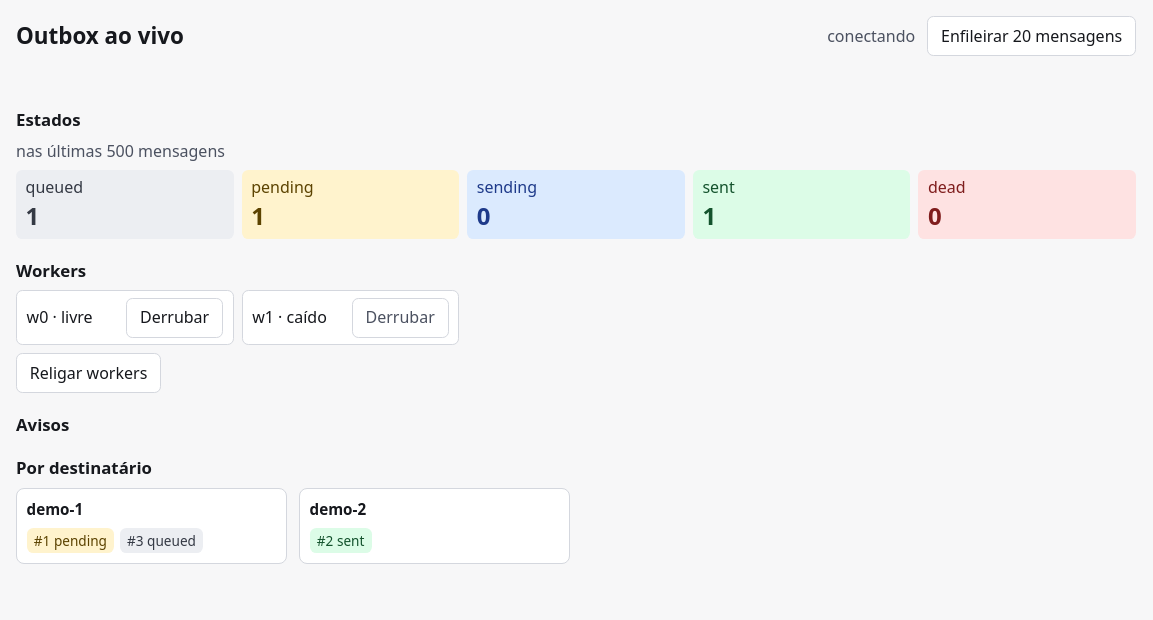
Test: App › avisa quando derrubar falha
Click the button with aria-label "Derrubar worker 0" at (175, 318), box [126,298,223,338]
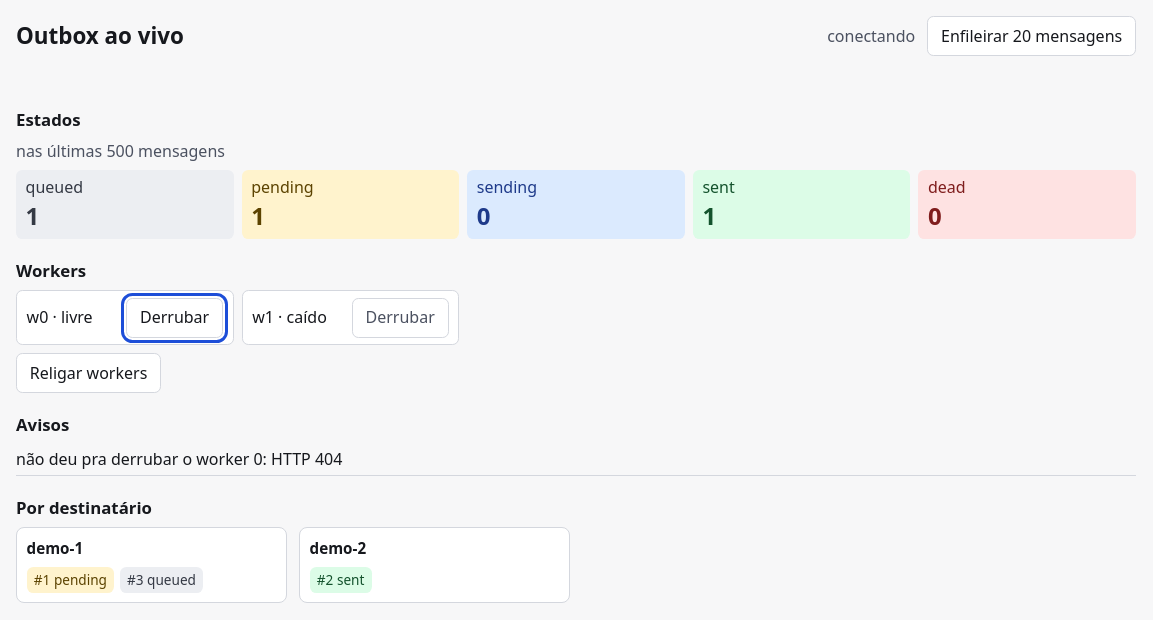
Expected: the list "não deu pra derrubar o worker 0: HTTP 404" is shown, [16,444,1136,476]
